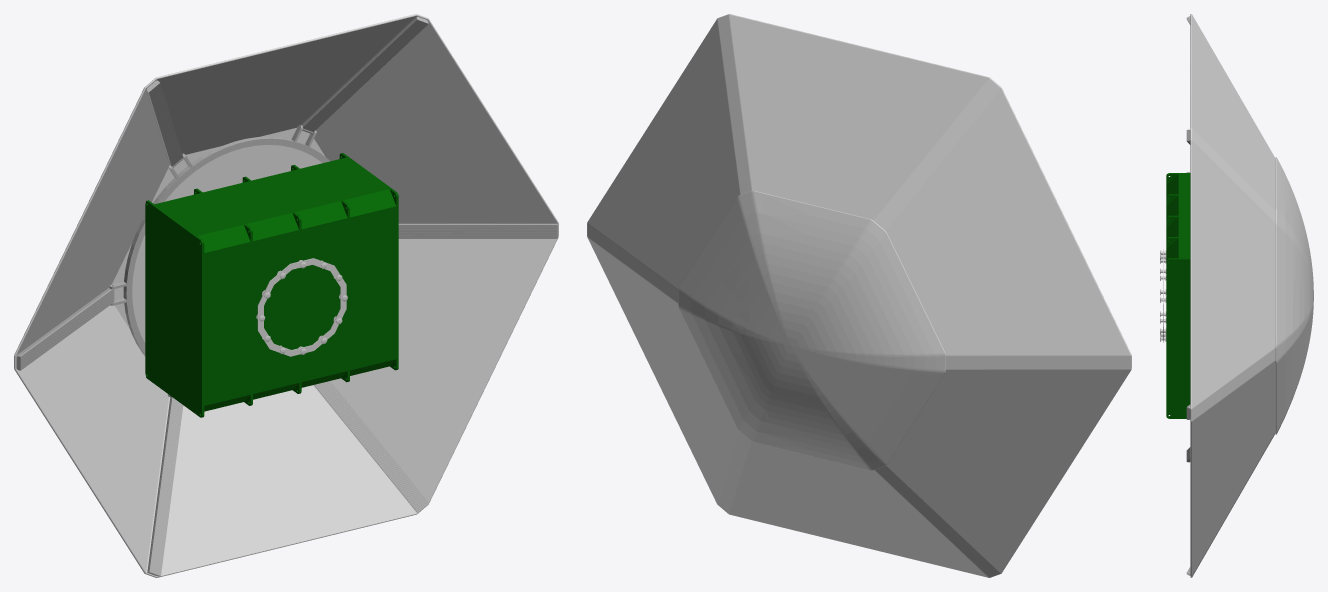
The model's file is BFS 24U_BFS.dae.
3 views of the same model, side by side, from view 1: azimuth 30°, elevation 25°; view 2: azimuth 150°, elevation 25°; view 3: azimuth 270°, elevation 25° (orthographic). The views are drawn at different scales.
Visible parts, largest first — view 1: Component (×6); view 2: Component (×2); view 3: Component (×4).
Part boxes in pixels (<box>): Component (×6): <box>14,14,558,577</box>; Component (×2): <box>587,14,1131,577</box>; Component (×4): <box>1166,14,1313,577</box>.
Bounding box in the file's own units: 56238 × 15314 × 49405.
Materials: 9 (1 with a texture image).
